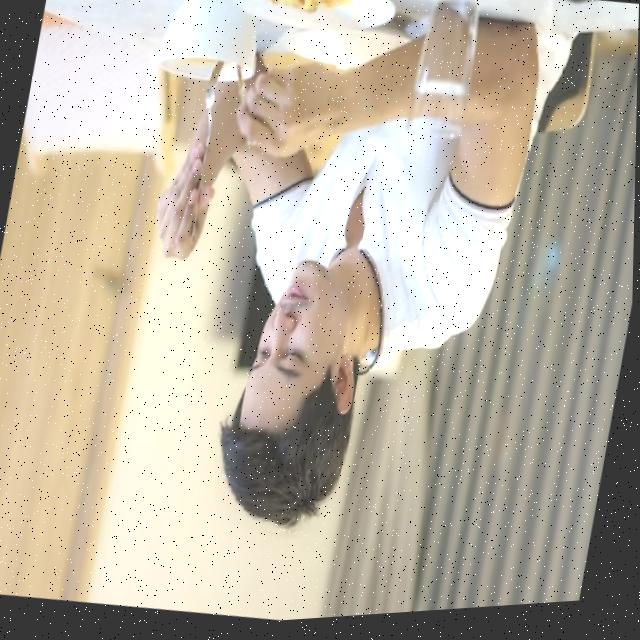eating-person: (74, 0, 590, 591)
